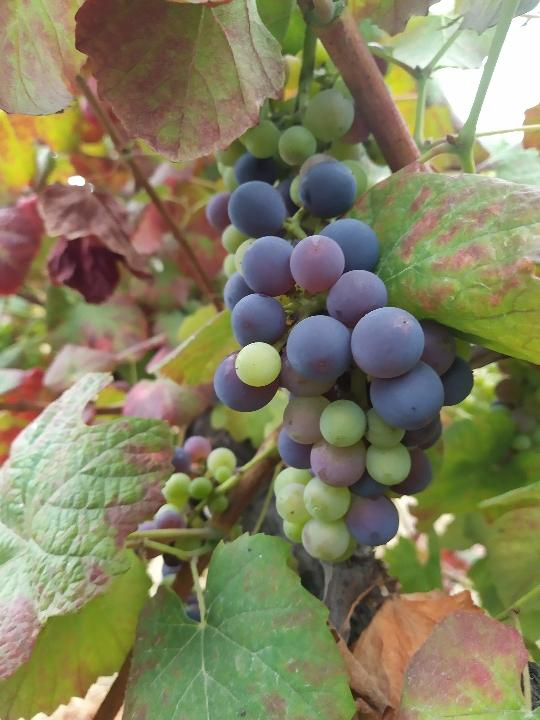grape: (209, 152, 476, 566)
